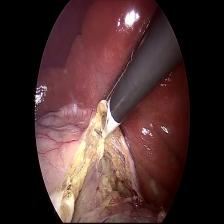Grasper: (99, 15, 150, 106)
Hook: (90, 106, 123, 150)
